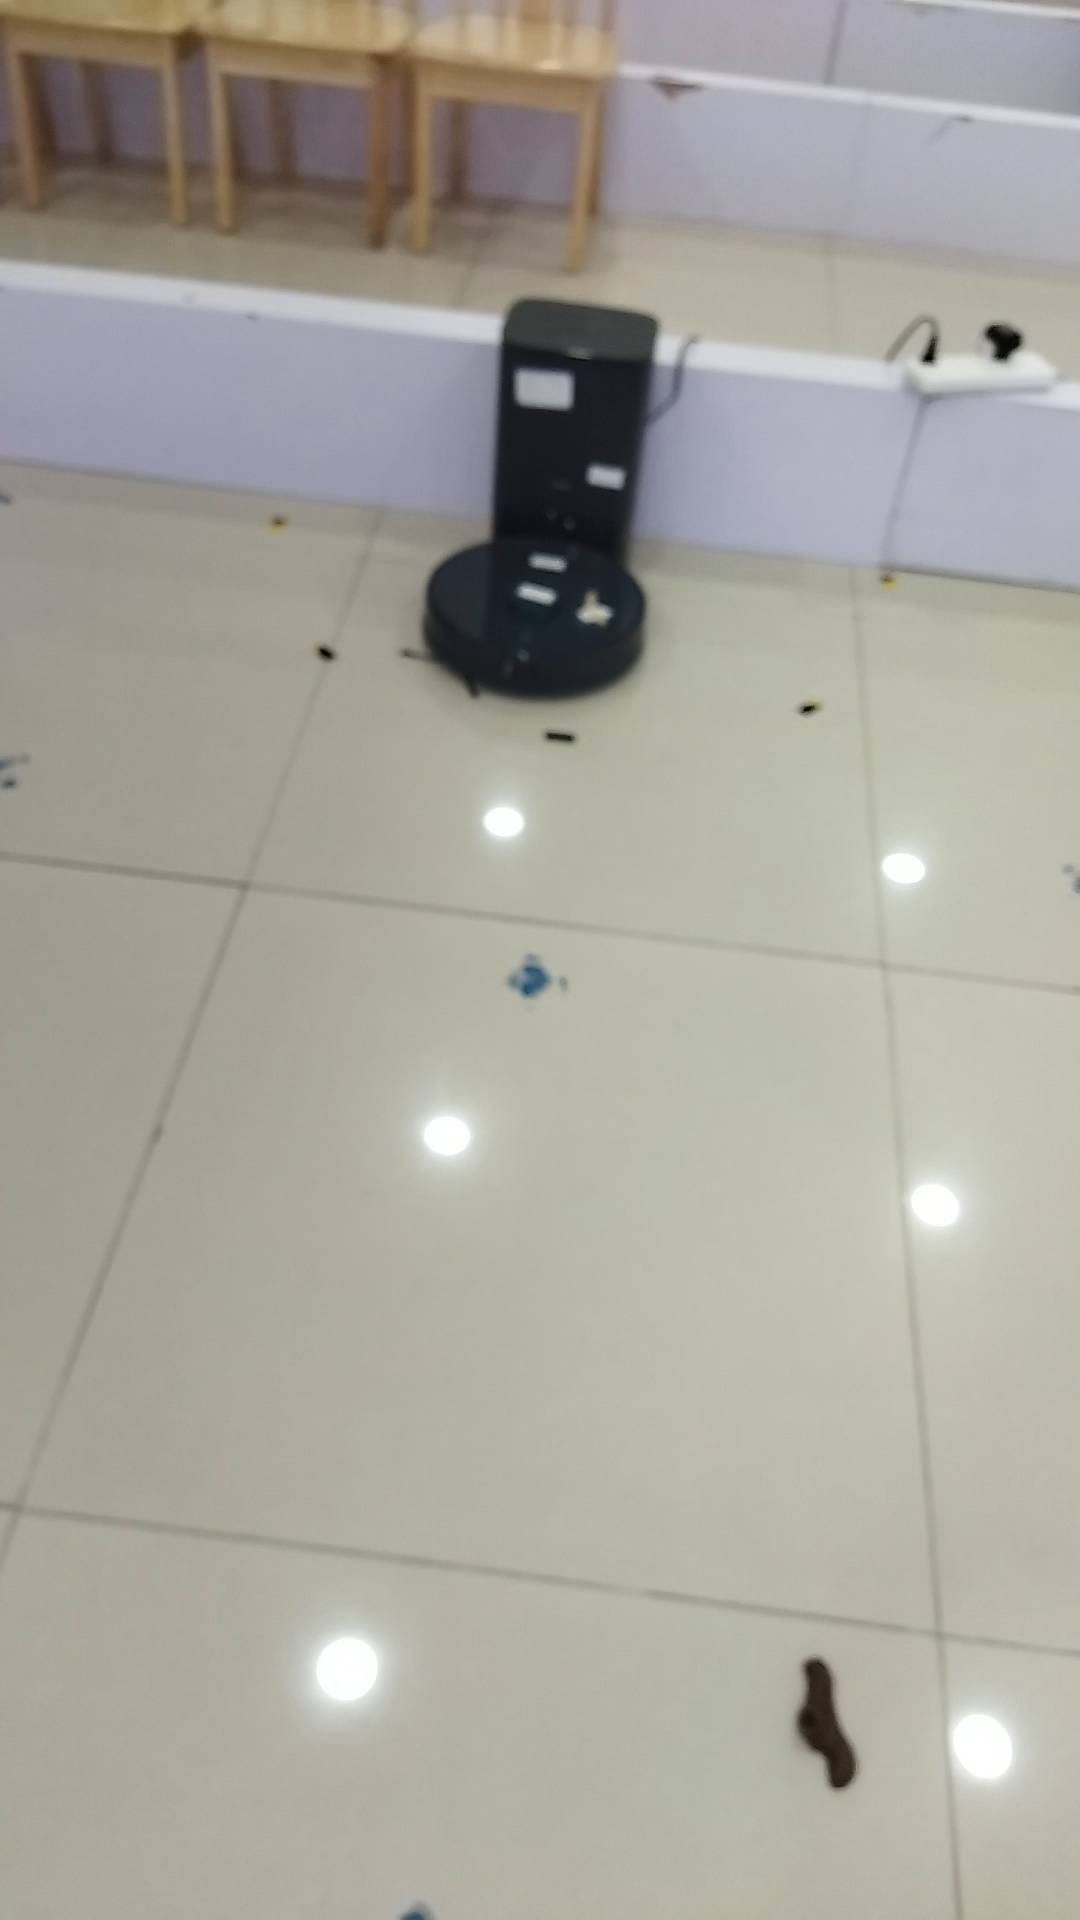dust collecting barrel: (492, 298, 659, 563)
